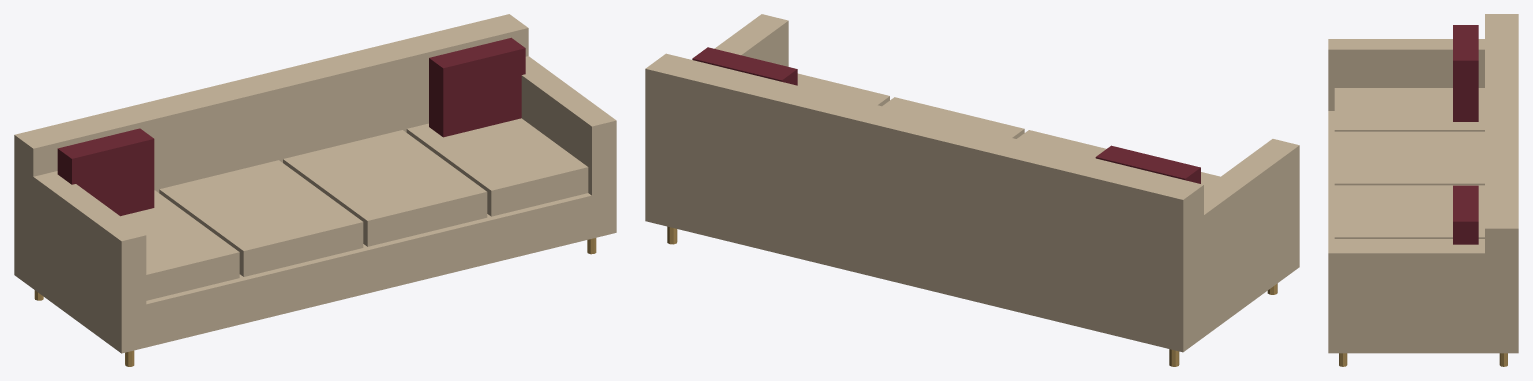
The model's file is sofa_4_lugares.obj.
The picture shows the model from 3 angles, left to right: view 1: azimuth 30°, elevation 25°; view 2: azimuth 150°, elevation 25°; view 3: azimuth 270°, elevation 25°; orthographic projection. The views are drawn at different scales.
Parts seen in each view (by area): view 1: sofa_4_lugares; view 2: sofa_4_lugares; view 3: sofa_4_lugares.
Boxes of the visible parts, <box> form: sofa_4_lugares: <box>14,14,616,366</box>; sofa_4_lugares: <box>645,14,1299,366</box>; sofa_4_lugares: <box>1328,14,1518,366</box>.
Bounding box in the file's own units: 240 × 75 × 90.
